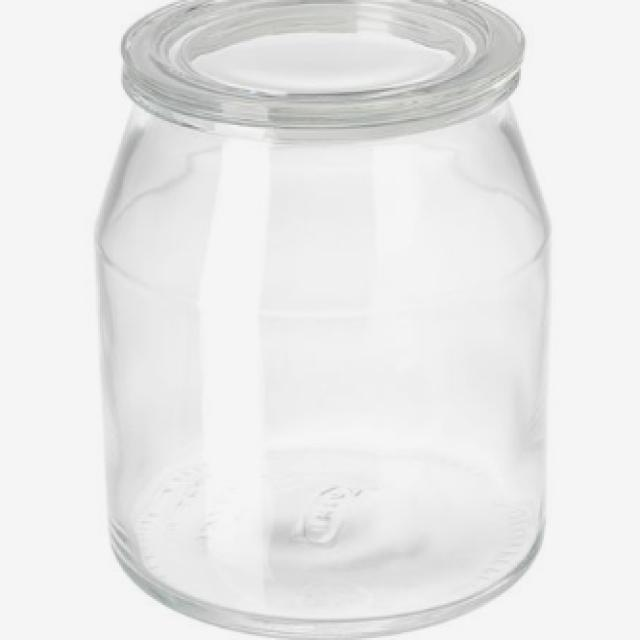ToplesKaca: (92, 0, 552, 638)
